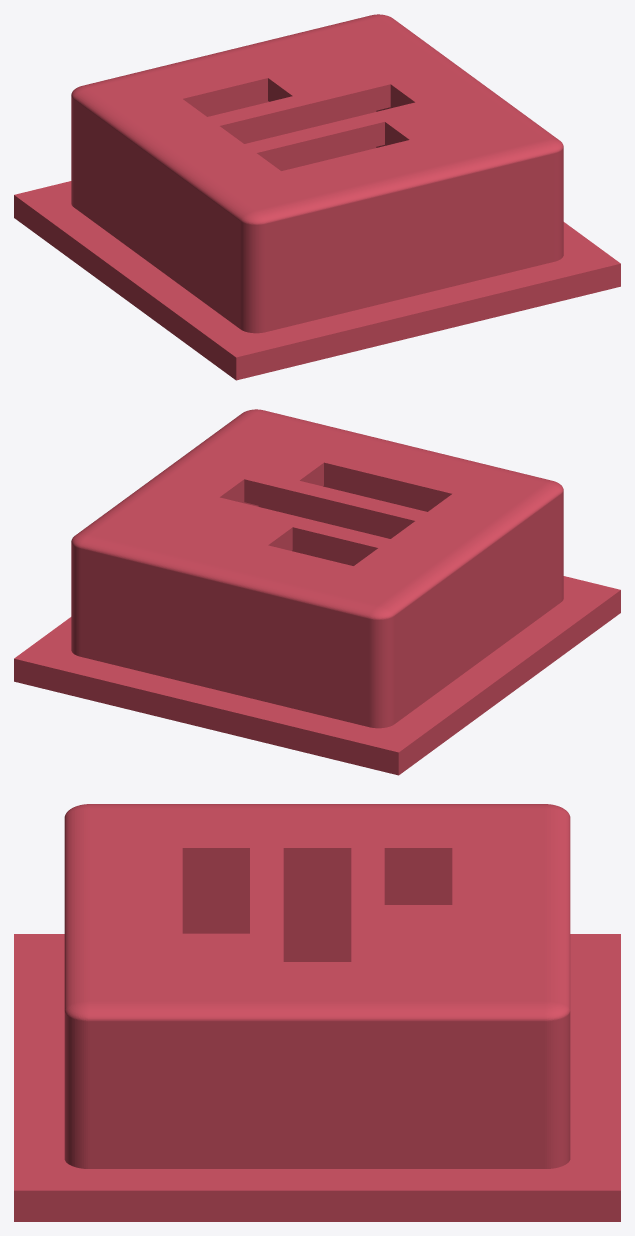
The model's file is rav_VIZ_button.glb.
The picture shows the model from 3 angles, top to bottom: view 1: azimuth 30°, elevation 25°; view 2: azimuth 150°, elevation 25°; view 3: azimuth 270°, elevation 25°; orthographic projection. The views are drawn at different scales.
Parts seen in each view (by area): view 1: Mesh_Mesh_head_geo.001_lambert2SG.001; view 2: Mesh_Mesh_head_geo.001_lambert2SG.001; view 3: Mesh_Mesh_head_geo.001_lambert2SG.001.
Part boxes in pixels (<box>): Mesh_Mesh_head_geo.001_lambert2SG.001: <box>14,14,620,380</box>; Mesh_Mesh_head_geo.001_lambert2SG.001: <box>14,409,620,775</box>; Mesh_Mesh_head_geo.001_lambert2SG.001: <box>14,804,620,1221</box>.
Bounding box in the file's own units: 0.0175 × 0.006 × 0.0175.
